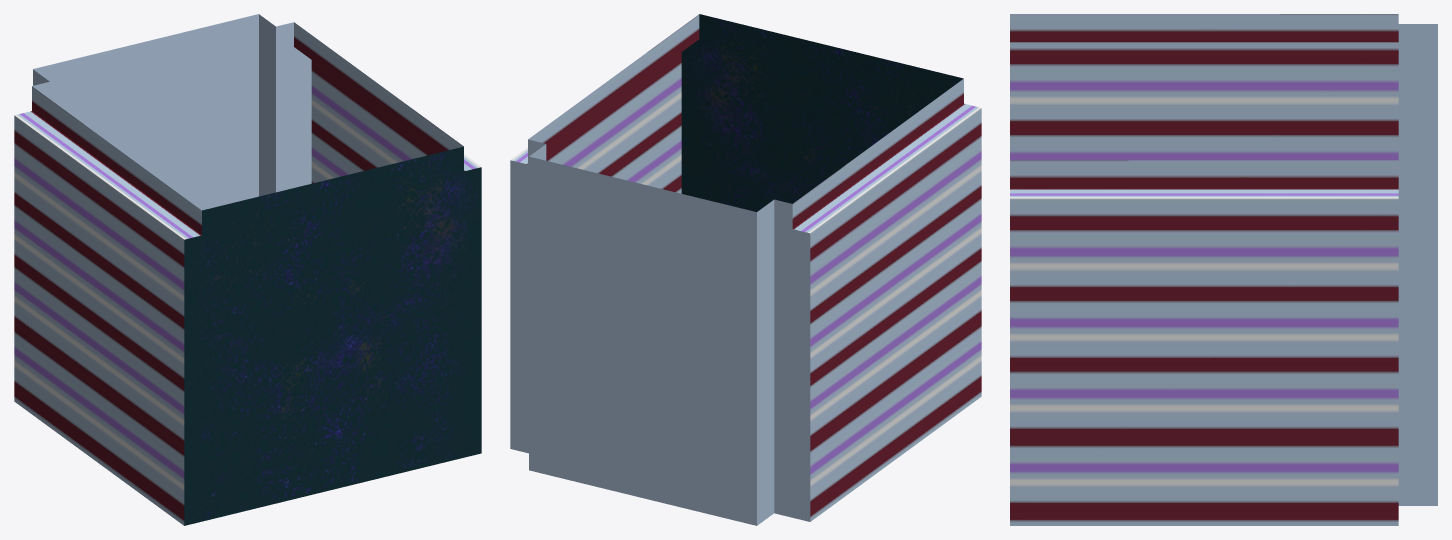
File: Hall_Empty_Column.fbx
3 views of the same model, side by side, from view 1: azimuth 30°, elevation 25°; view 2: azimuth 150°, elevation 25°; view 3: azimuth 270°, elevation 25° (orthographic). The views are drawn at different scales.
Visible parts, largest first — view 1: Hall_Empty_Column; view 2: Hall_Empty_Column; view 3: Hall_Empty_Column.
Boxes of the visible parts, x1,y1,x2,y2 form: Hall_Empty_Column: (14, 14, 481, 525); Hall_Empty_Column: (510, 14, 981, 525); Hall_Empty_Column: (1010, 14, 1437, 525).
Bounding box in the file's own units: 200 × 200 × 218.
Materials: 2 (2 with a texture image).
